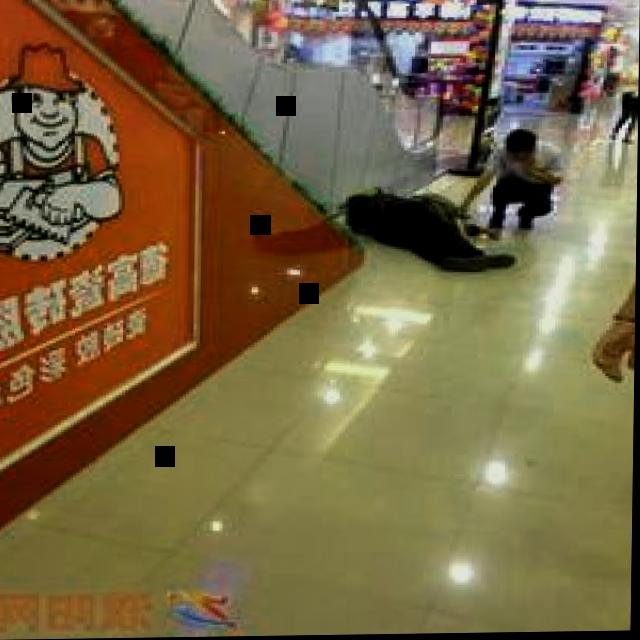Fall-Detected: (336, 170, 535, 282)
